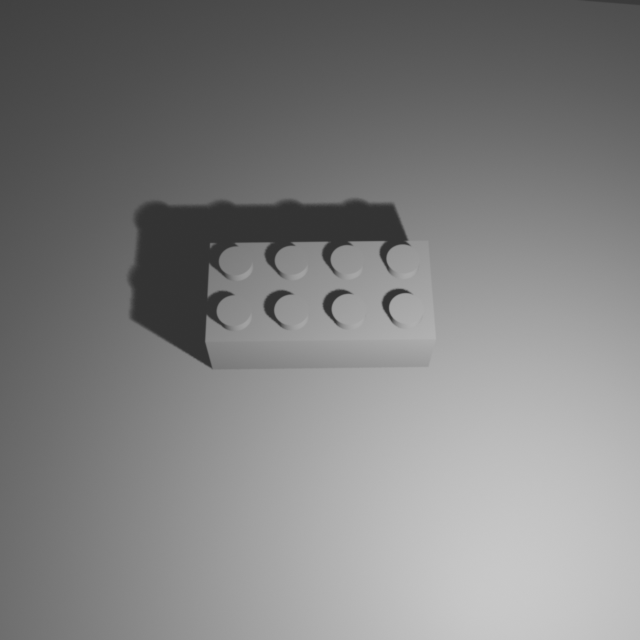lego_2x4: (204, 235, 437, 369)
